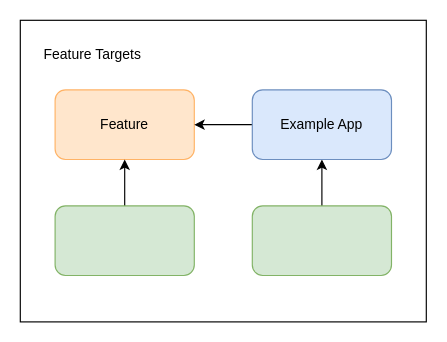
The diagram is 447 pixels wide and 342 high, and some of its shapes have lost their labels. The centre of each missing label's shape, as x and y in pixels:
"UI Tests" goes at [321,240].
"Unit Tests" goes at [124,240].
